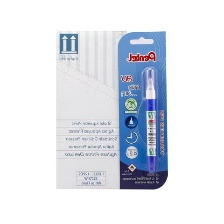book: (53, 27, 129, 191), (117, 29, 168, 191)
correction_fluid: (140, 64, 160, 177)
